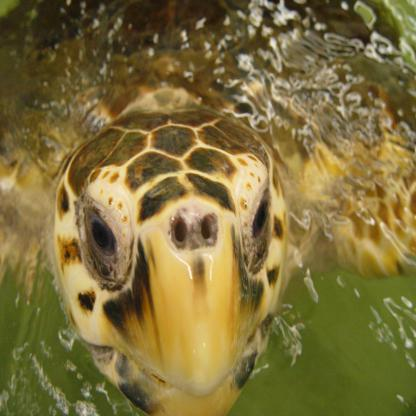turtle: (47, 102, 296, 416)
